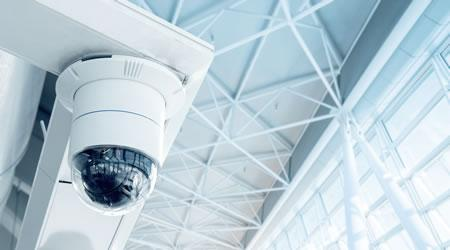CCTV: (56, 55, 186, 216)
